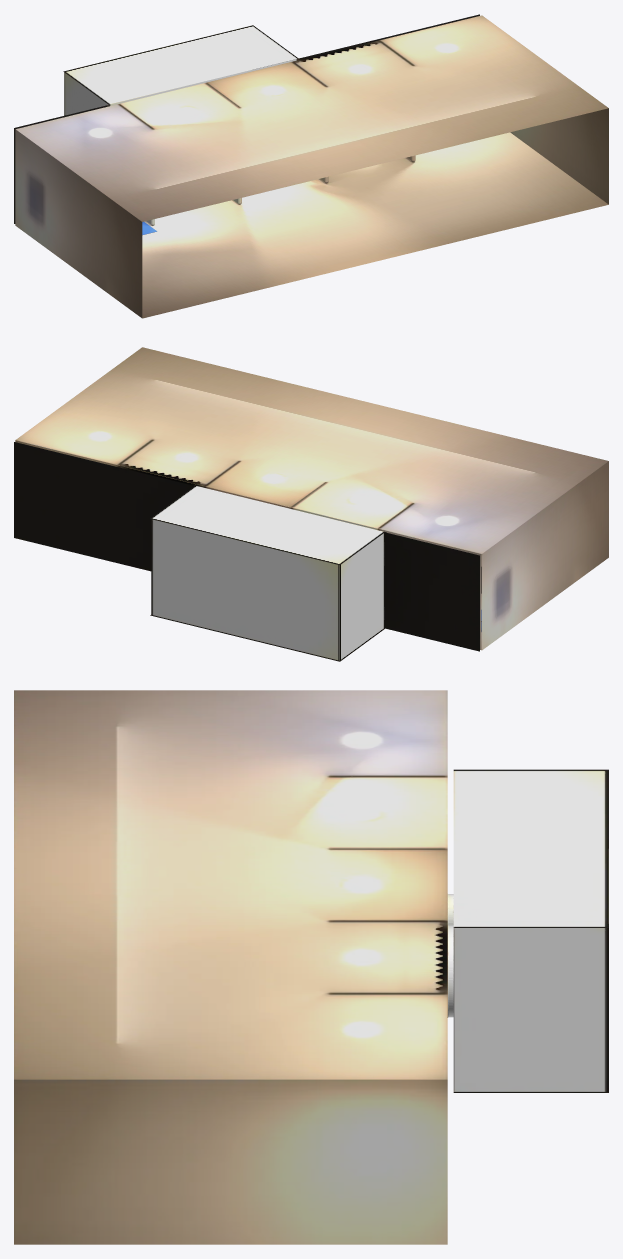
Rendered from studio-lite.glb.
The picture shows the model from 3 angles, top to bottom: view 1: azimuth 30°, elevation 25°; view 2: azimuth 150°, elevation 25°; view 3: azimuth 270°, elevation 25°; orthographic projection. The views are drawn at different scales.
Visible parts, largest first — view 1: sala; view 2: sala; view 3: sala.
Part boxes in pixels (x1,y1,x2,y2): sala: (14, 14, 608, 318); sala: (14, 347, 608, 661); sala: (14, 690, 608, 1244).
Bounding box in the file's own units: 17.2 × 3.4 × 11.11.
9 materials, 6 textured.
